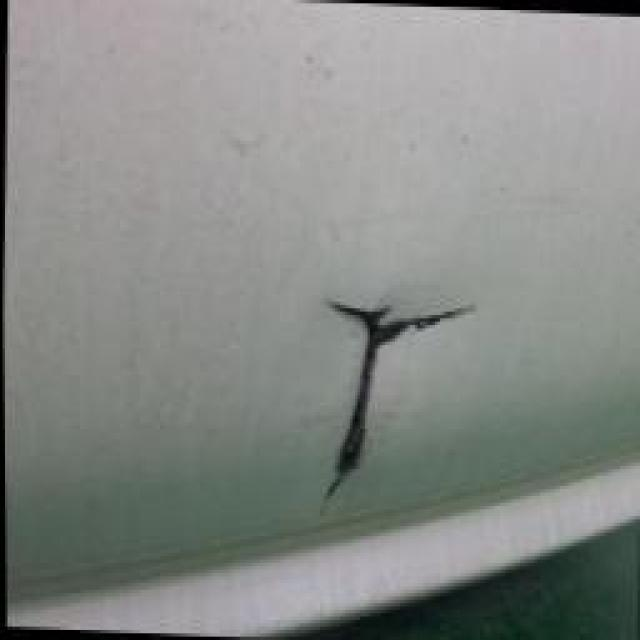Door: (258, 255, 495, 536)
